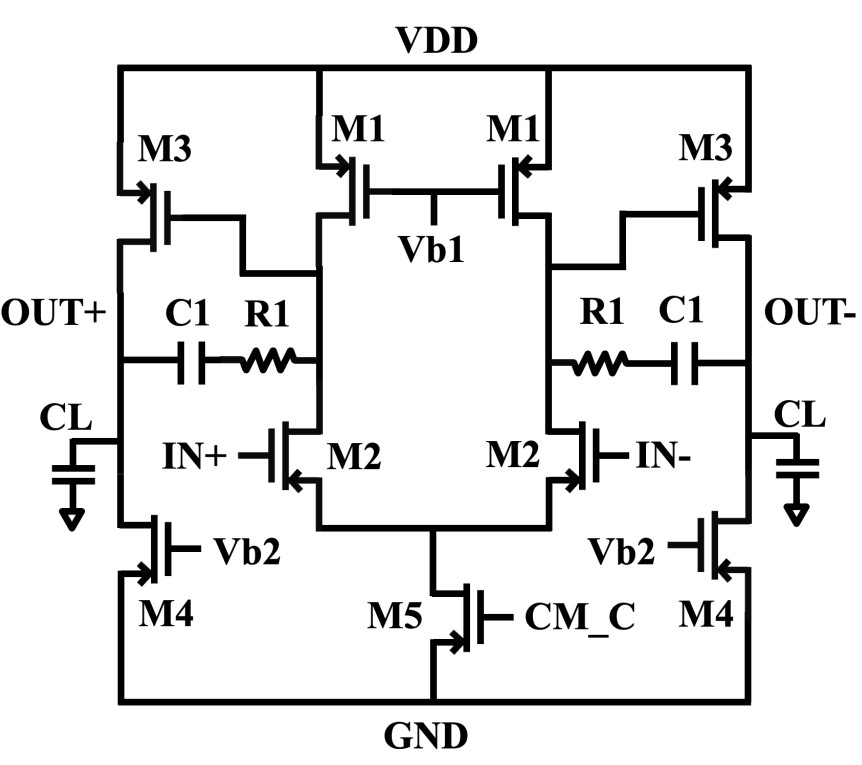capacity: (663, 336, 708, 393), (169, 335, 211, 387), (45, 455, 103, 491), (772, 451, 823, 482)
gnd: (778, 497, 816, 529), (51, 505, 89, 535)
pmos: (106, 173, 182, 263), (412, 577, 495, 658), (259, 413, 338, 497), (534, 413, 613, 497), (487, 147, 561, 236), (306, 149, 382, 233), (688, 504, 761, 589), (689, 171, 760, 257), (107, 509, 182, 589)
resistor: (565, 341, 637, 387), (232, 340, 305, 382)
